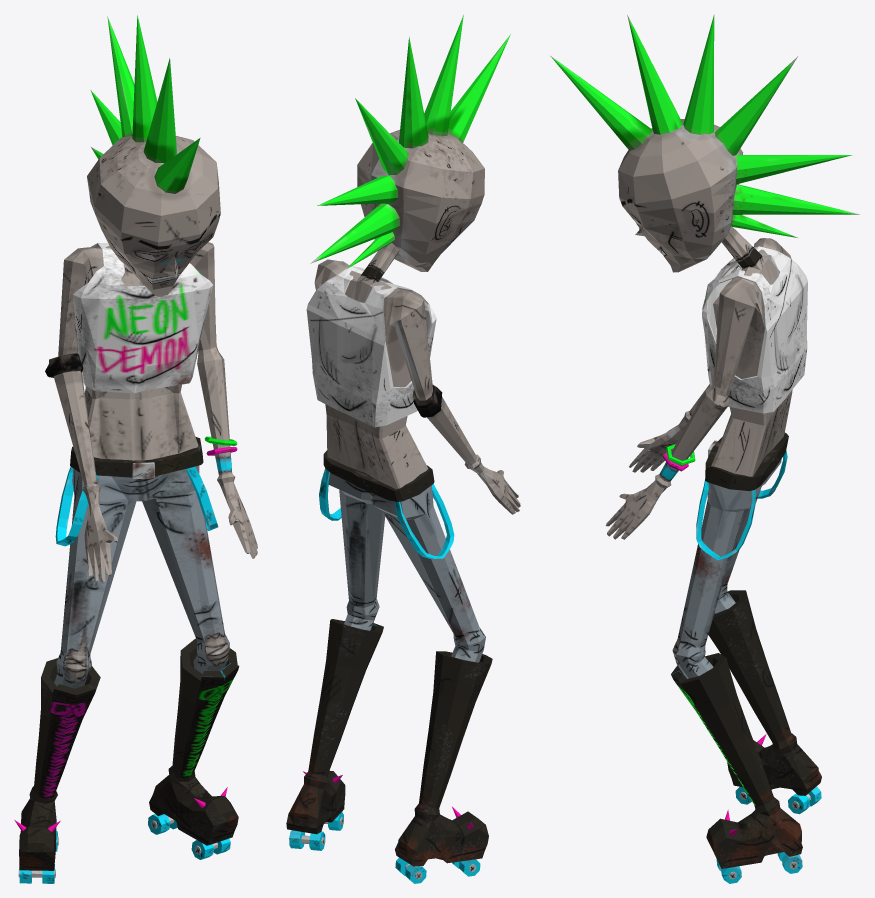
Rendered from punkAnimation_000012.obj.
3 views of the same model, side by side, from view 1: azimuth 30°, elevation 25°; view 2: azimuth 150°, elevation 25°; view 3: azimuth 270°, elevation 25° (orthographic). The views are drawn at different scales.
Parts seen in each view (by area): view 1: Cube.004_Cube.003; view 2: Cube.004_Cube.003; view 3: Cube.004_Cube.003.
Part boxes in pixels (x1,y1,x2,y2): Cube.004_Cube.003: [14, 15, 257, 883]; Cube.004_Cube.003: [286, 15, 520, 883]; Cube.004_Cube.003: [550, 14, 859, 883].
Bounding box in the file's own units: 1.81 × 7.33 × 2.5.
